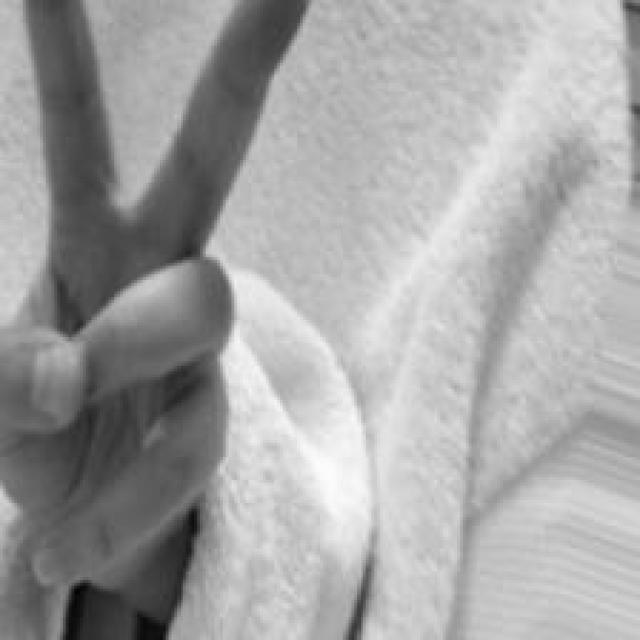V: (1, 0, 294, 600)
